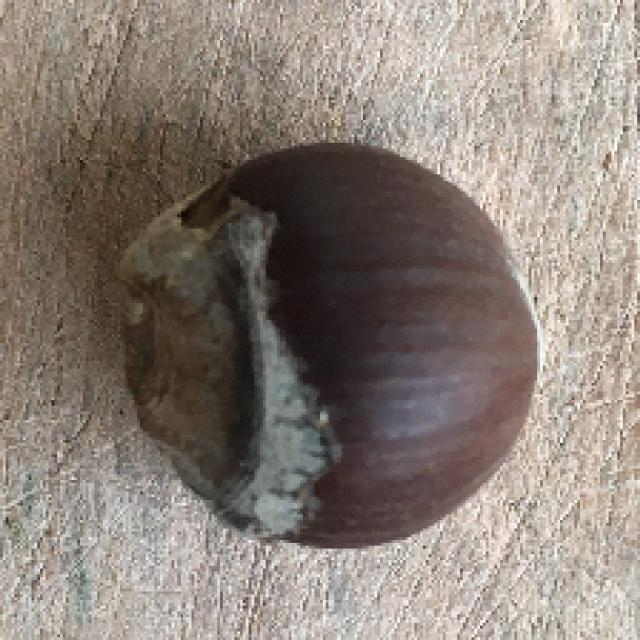damagedHazelnut: (114, 132, 549, 562)
